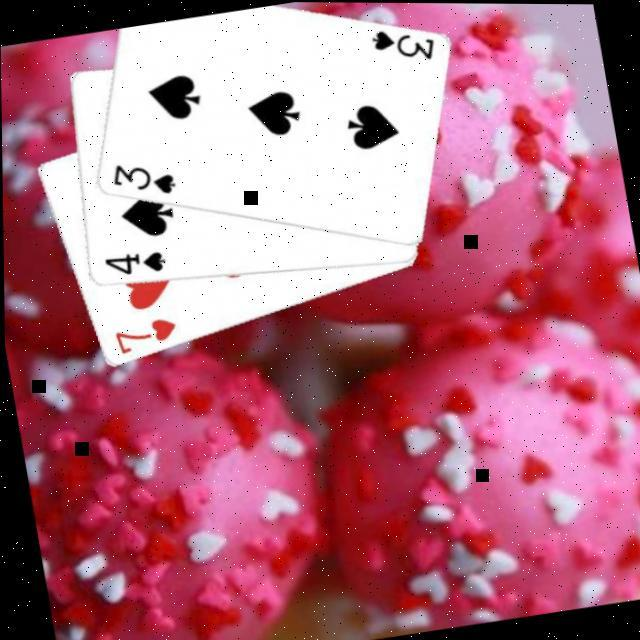3S: (364, 18, 440, 70), (104, 153, 179, 205)
4S: (98, 245, 168, 282)
7H: (106, 312, 180, 358)
